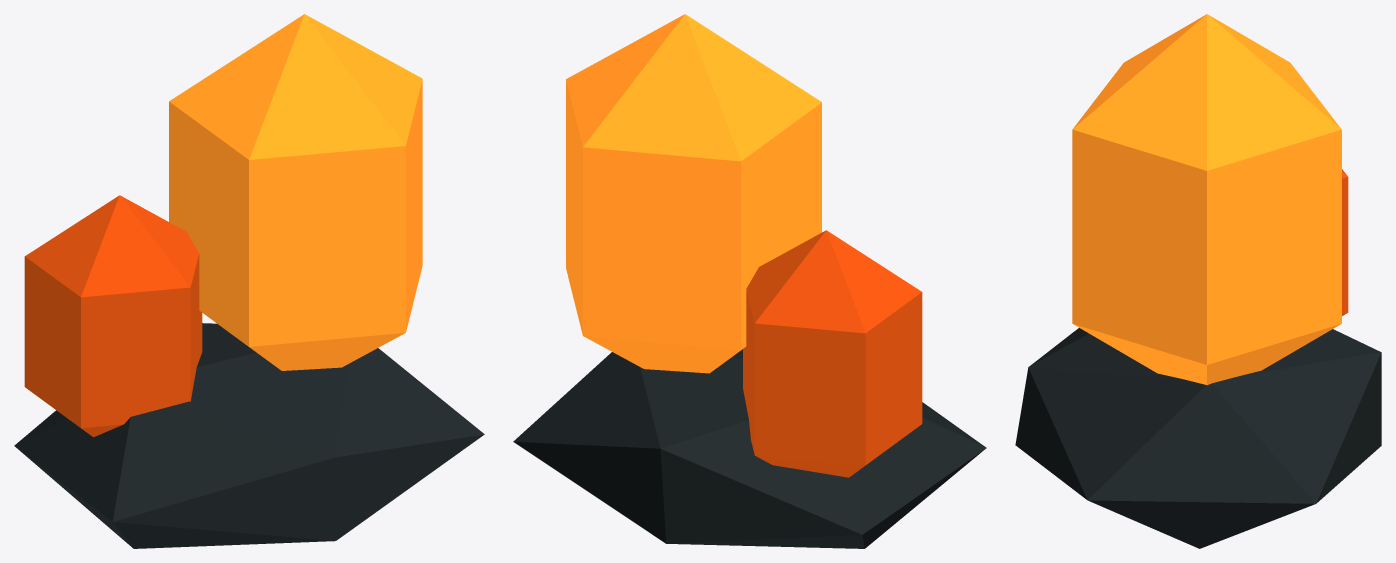
Rendered from food_amber_b.fbx.
The picture shows the model from 3 angles, left to right: view 1: azimuth 30°, elevation 25°; view 2: azimuth 150°, elevation 25°; view 3: azimuth 270°, elevation 25°; orthographic projection. The views are drawn at different scales.
Parts seen in each view (by area): view 1: food_amber_b; view 2: food_amber_b; view 3: food_amber_b.
Part boxes in pixels (<box>): food_amber_b: <box>14,14,484,548</box>; food_amber_b: <box>513,14,986,548</box>; food_amber_b: <box>1015,14,1381,548</box>.
Size of the model in its own units: 113 by 144 by 93.99.
